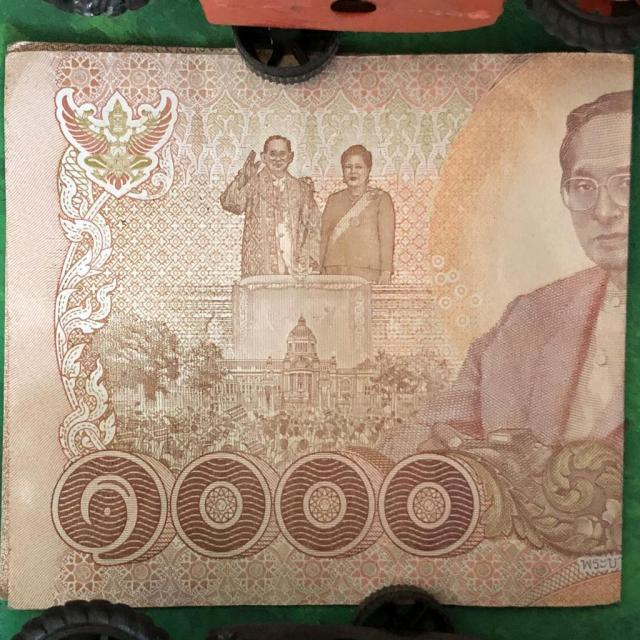THAI1000: (2, 42, 632, 609)
